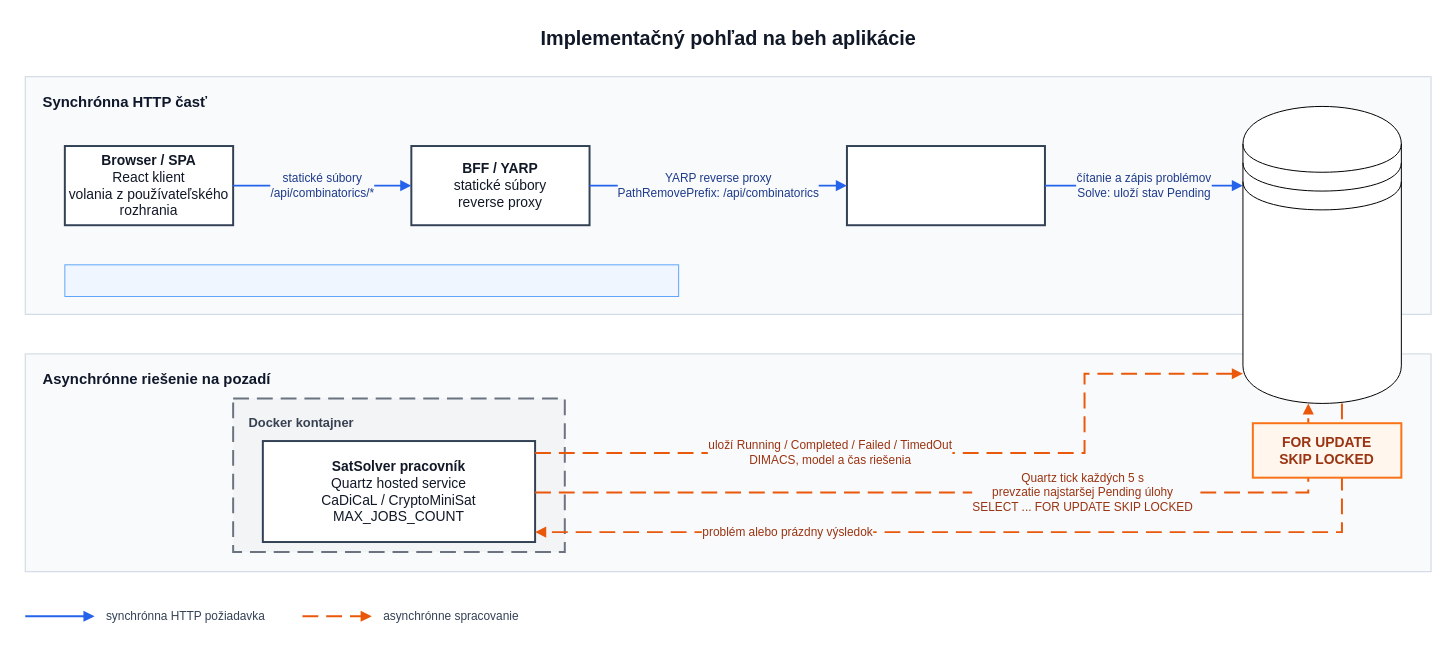
Some shapes in this 1448 by 647 pixel diagram are drawn without their labels. The shapes that lost their labels are listed below. From the top down, each one's centre as x and y in pixels, then its label:
At point (945, 185): "Combinatorics Service API APIs príkazy a dotazy nad problémami".
At point (1321, 254): "PostgreSQL tabuľka problémov stav, DIMACS, model, výsledok".
At point (371, 280): "BFF a API obsluhujú krátke požiadavky; riešenie SAT nebeží v HTTP požiadavke.".
